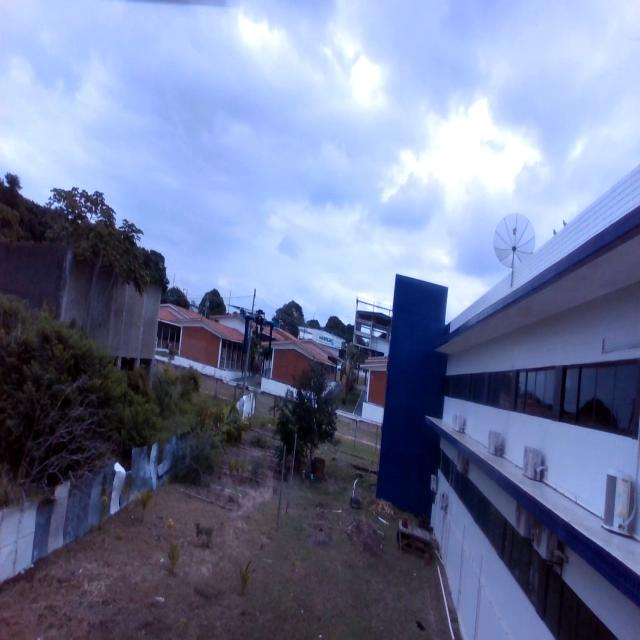-uav-: (231, 285, 293, 385)
